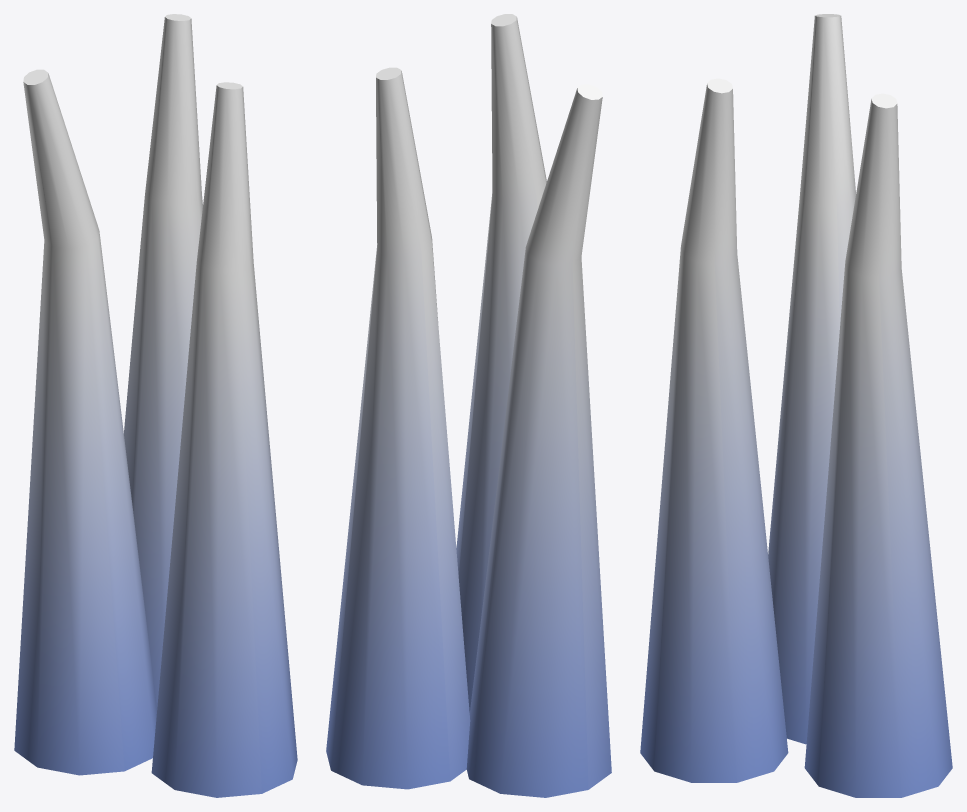
The model's file is Grass_K.fbx.
3 views of the same model, side by side, from view 1: azimuth 30°, elevation 25°; view 2: azimuth 150°, elevation 25°; view 3: azimuth 270°, elevation 25° (orthographic).
Parts seen in each view (by area): view 1: Grass_K; view 2: Grass_K; view 3: Grass_K.
Part boxes in pixels (x1=…): Grass_K: x1=14, y1=14, x2=297, y2=797; Grass_K: x1=326, y1=14, x2=611, y2=797; Grass_K: x1=640, y1=14, x2=952, y2=797.
Size of the model in its own units: 39.96 by 111 by 46.49.
